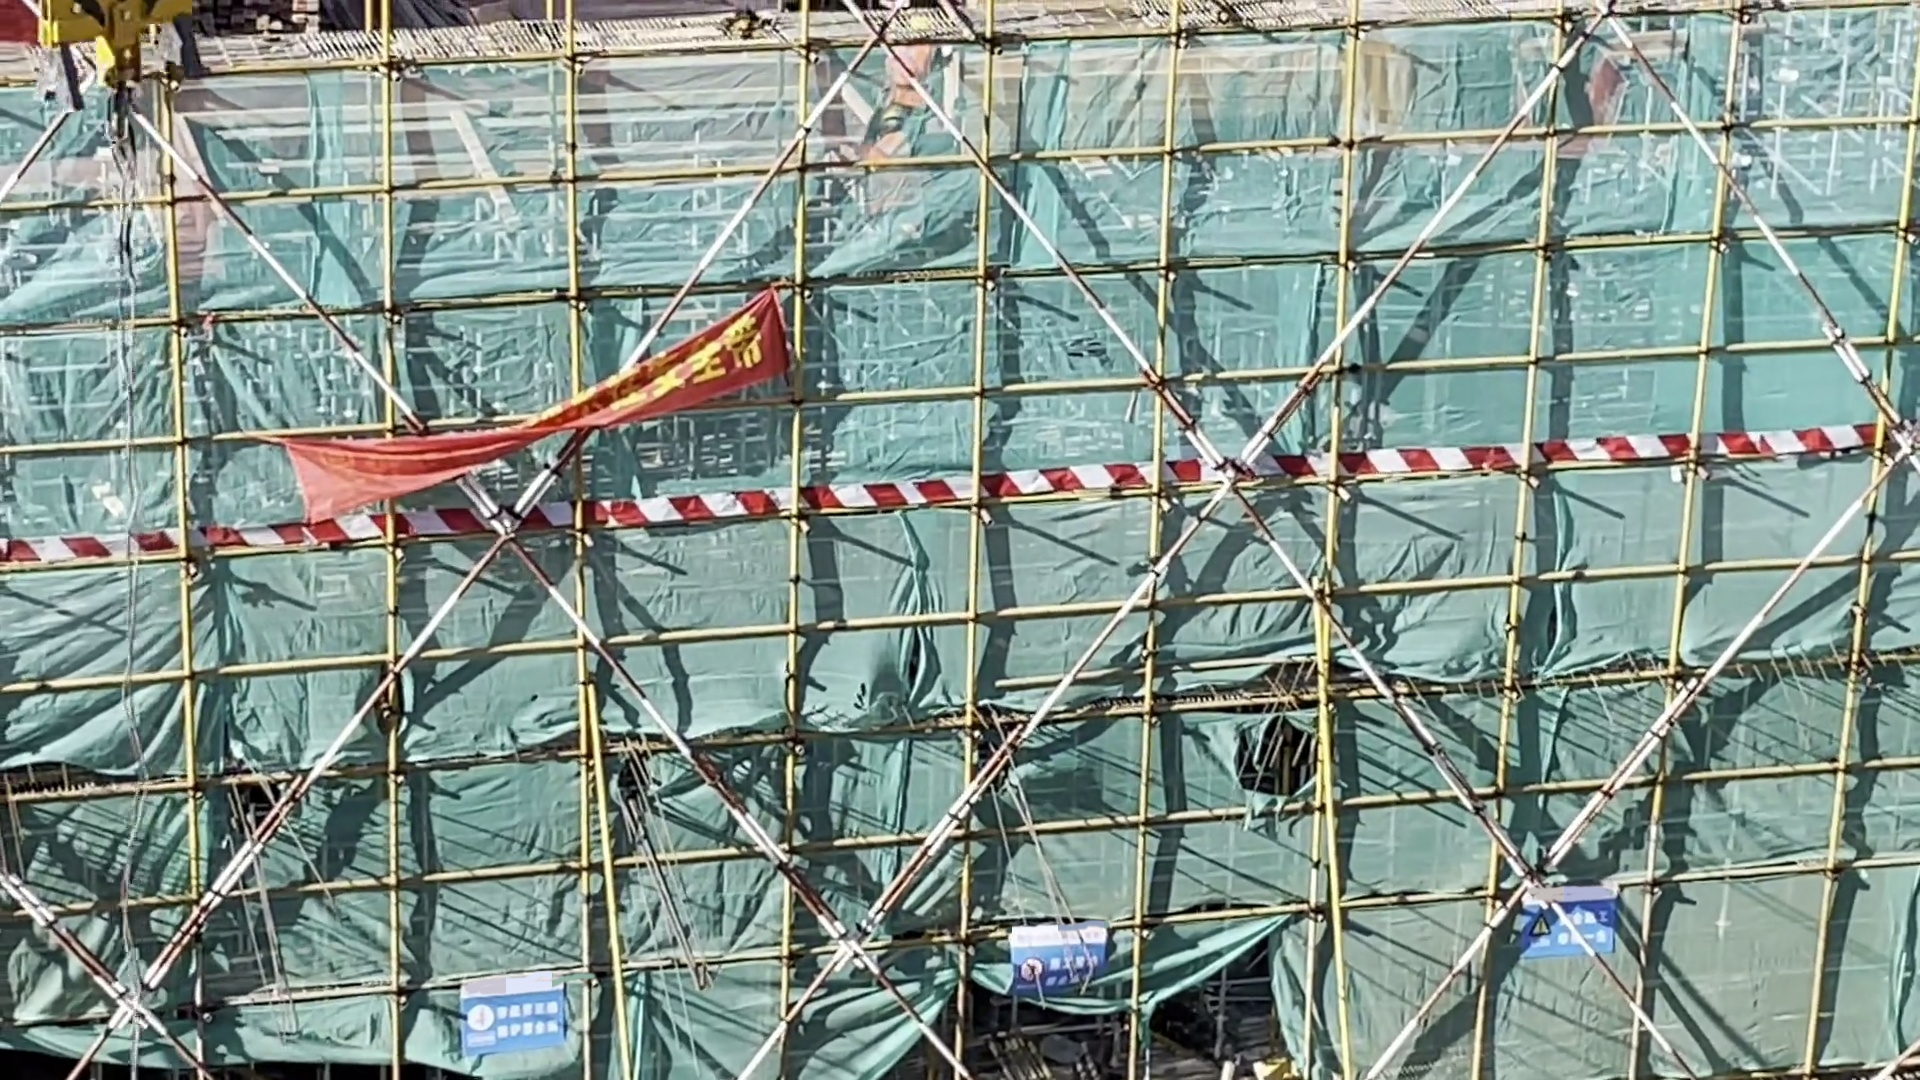slogan: (274, 285, 806, 531)
